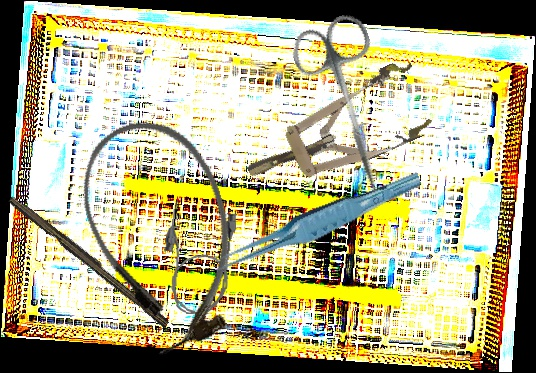Cannula: (64, 103, 261, 365), (157, 199, 239, 318)
Iris Scissors: (285, 9, 416, 205)
Scalpel Handle: (5, 192, 174, 329)
Speculum: (232, 56, 440, 207)
Tissue Forceps: (206, 169, 428, 275)
